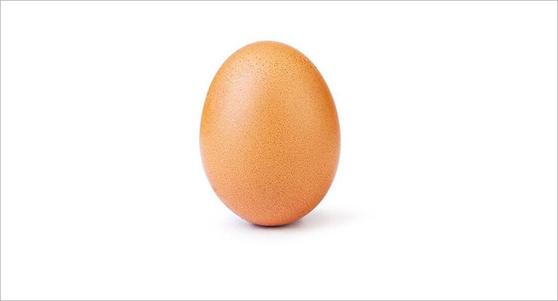egg: (198, 37, 343, 231)
